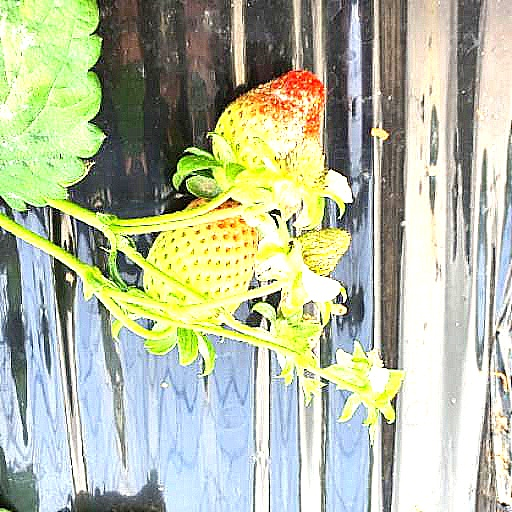Powdery Mildew Fruit: (243, 365, 329, 444)
